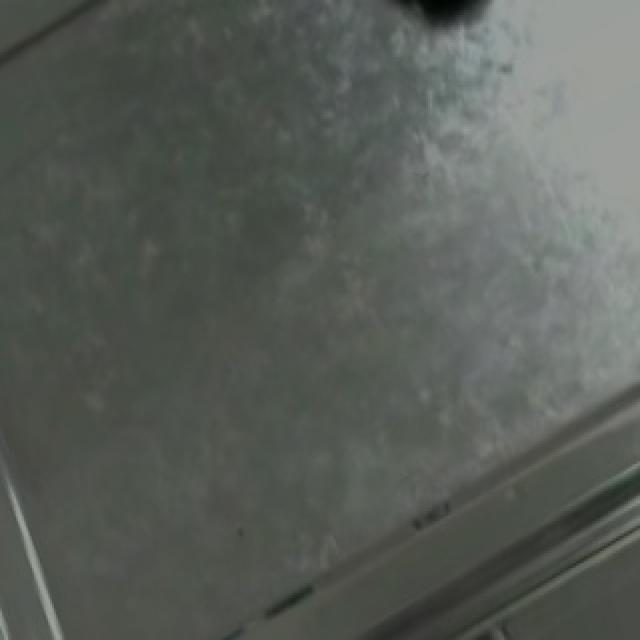Fruit: (380, 0, 534, 25)
